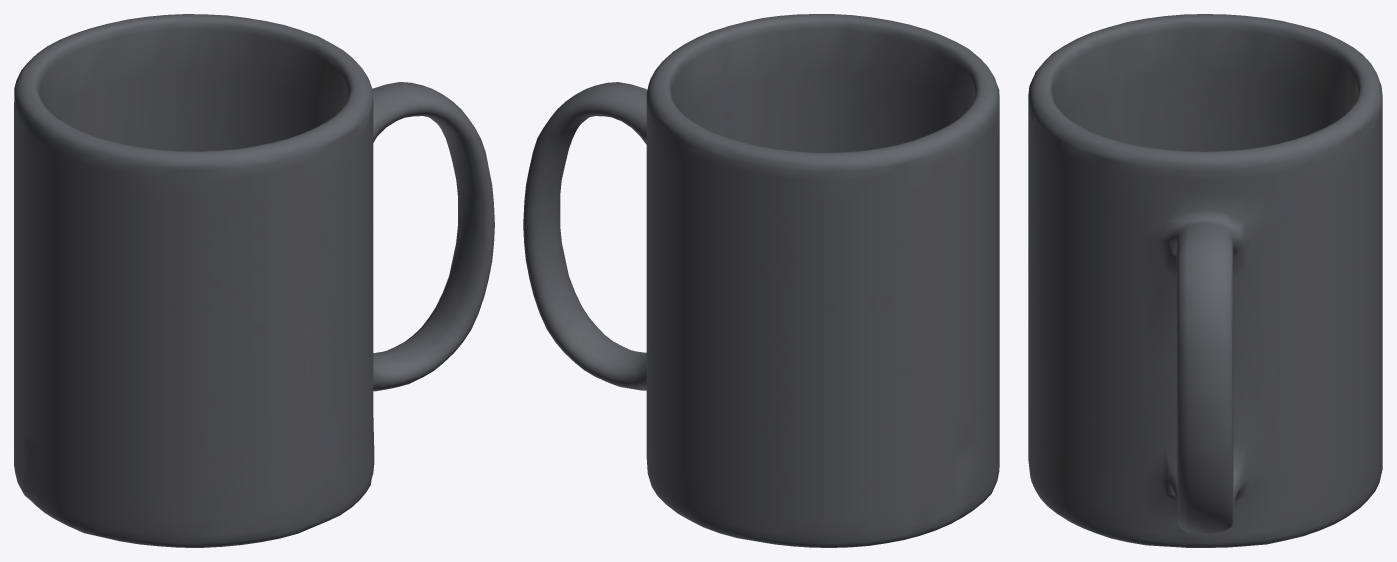
File: original_glb.glb
3 views of the same model, side by side, from view 1: azimuth 30°, elevation 25°; view 2: azimuth 150°, elevation 25°; view 3: azimuth 270°, elevation 25° (orthographic).
Parts seen in each view (by area): view 1: Matte Charcoal Mug; view 2: Matte Charcoal Mug; view 3: Matte Charcoal Mug.
Part boxes in pixels (<box>): Matte Charcoal Mug: <box>14,14,494,547</box>; Matte Charcoal Mug: <box>523,14,999,547</box>; Matte Charcoal Mug: <box>1028,14,1382,547</box>.
Bounding box in the file's own units: 0.998 × 0.8379 × 0.6855.
Materials: 1 (1 with a texture image).
